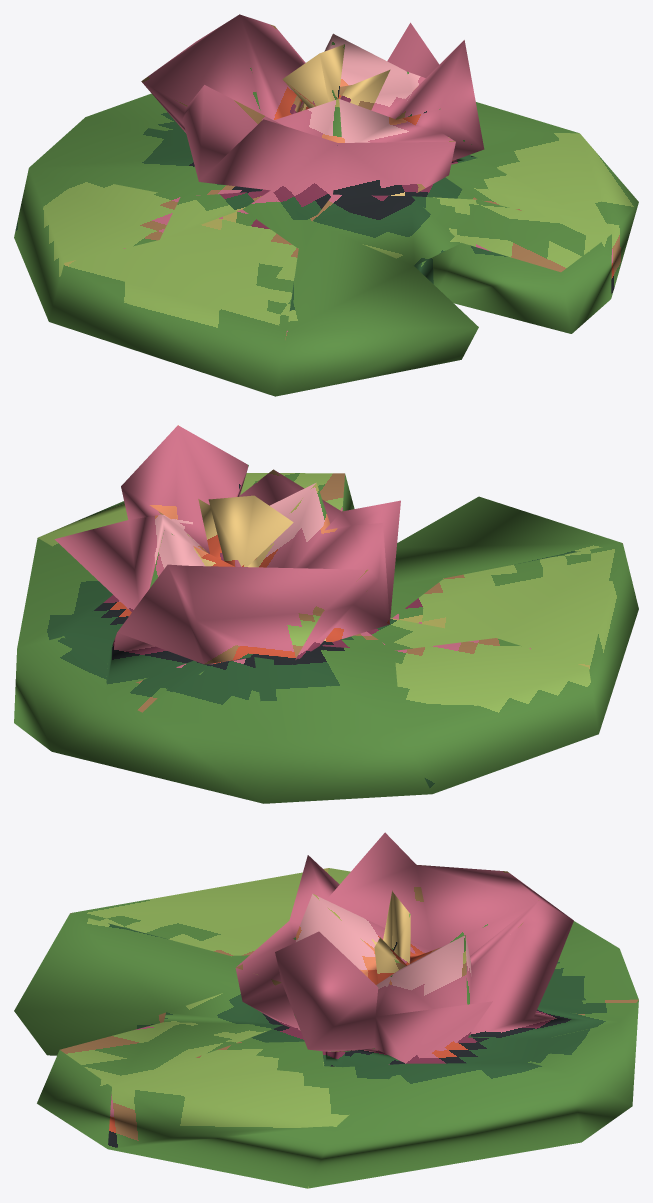
File: lilypad.glb
3 views of the same model, one above another, from view 1: azimuth 30°, elevation 25°; view 2: azimuth 150°, elevation 25°; view 3: azimuth 270°, elevation 25° (orthographic). The views are drawn at different scales.
Parts seen in each view (by area): view 1: tripo_node_335c2a4c-7706-486b-b163-c025a70bfe52; view 2: tripo_node_335c2a4c-7706-486b-b163-c025a70bfe52; view 3: tripo_node_335c2a4c-7706-486b-b163-c025a70bfe52.
Boxes of the visible parts, x1,y1,x2,y2 form: tripo_node_335c2a4c-7706-486b-b163-c025a70bfe52: (14, 14, 638, 396); tripo_node_335c2a4c-7706-486b-b163-c025a70bfe52: (14, 425, 638, 803); tripo_node_335c2a4c-7706-486b-b163-c025a70bfe52: (14, 832, 638, 1188).
Size of the model in its own units: 0.9725 by 0.3416 by 0.9739.
Materials: 1 (1 with a texture image).
